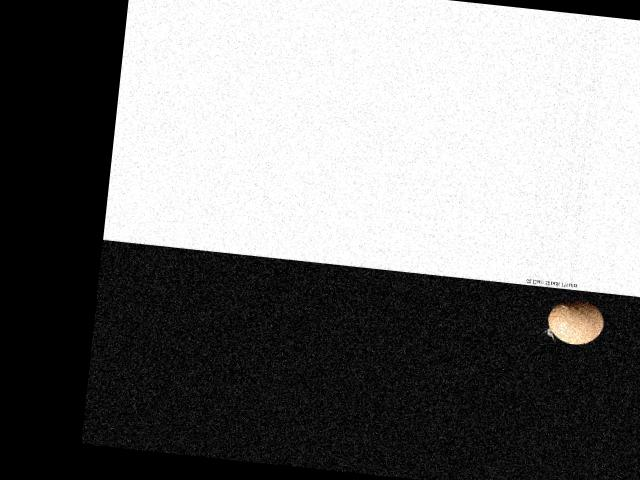egg: (546, 296, 606, 346)
